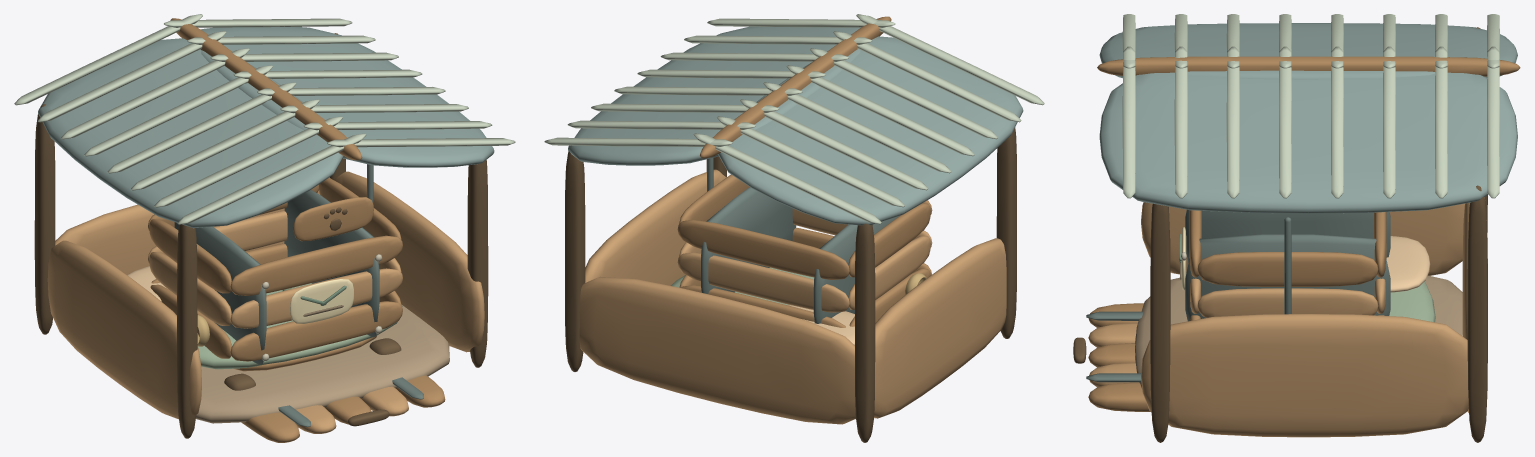
File: granja_envio.glb
3 views of the same model, side by side, from view 1: azimuth 30°, elevation 25°; view 2: azimuth 150°, elevation 25°; view 3: azimuth 270°, elevation 25° (orthographic). The views are drawn at different scales.
Visible parts, largest first — view 1: techo -1, pared -0.7, techo 1, base, pared 0.7, tabla z 20.355, tabla z 00.355, pared fondo, poste -0.720.49, poste -0.72-0.73, poste 0.720.49, cumbrera (+34 smaller); view 2: pared fondo, techo -1, pared -0.7, techo 1, pared 0.7, tabla z 2-0.355, tabla z 1-0.355, poste -0.72-0.73, poste 0.72-0.73, zuncho 0.28, poste -0.720.49, cumbrera (+25 smaller); view 3: techo 1, pared 0.7, techo -1, tabla x 20.42, cumbrera, pared -0.7, poste 0.72-0.73, poste 0.720.49, zuncho 0.28, zuncho -0.28, tabla x 10.42, base (+29 smaller).
Part boxes in pixels (bbox=[...]): techo -1: bbox=[38, 38, 343, 228]; pared -0.7: bbox=[47, 240, 201, 419]; techo 1: bbox=[201, 27, 494, 167]; base: bbox=[195, 305, 449, 423]; pared 0.7: bbox=[334, 171, 484, 352]; tabla z 20.355: bbox=[230, 235, 402, 295]; tabla z 00.355: bbox=[230, 301, 402, 361]; pared fondo: bbox=[55, 177, 330, 275]; poste -0.720.49: bbox=[177, 224, 197, 438]; poste -0.72-0.73: bbox=[34, 104, 55, 334]; poste 0.720.49: bbox=[467, 160, 488, 367]; cumbrera: bbox=[170, 18, 362, 160]; pared fondo: bbox=[579, 276, 855, 424]; techo -1: bbox=[718, 36, 1023, 225]; pared -0.7: bbox=[874, 238, 1006, 418]; techo 1: bbox=[568, 26, 860, 165]; pared 0.7: bbox=[585, 169, 726, 285]; tabla z 2-0.355: bbox=[677, 220, 849, 279]; tabla z 1-0.355: bbox=[677, 252, 849, 312]; poste -0.72-0.73: bbox=[855, 223, 875, 442]; poste 0.72-0.73: bbox=[565, 145, 585, 371]; zuncho 0.28: bbox=[701, 187, 796, 293]; poste -0.720.49: bbox=[996, 127, 1016, 338]; cumbrera: bbox=[700, 16, 891, 158]; techo 1: bbox=[1099, 72, 1517, 213]; pared 0.7: bbox=[1141, 314, 1468, 437]; techo -1: bbox=[1099, 23, 1517, 79]; tabla x 20.42: bbox=[1197, 252, 1378, 286]; cumbrera: bbox=[1097, 56, 1520, 76]; pared -0.7: bbox=[1141, 202, 1464, 275]; poste 0.72-0.73: bbox=[1467, 185, 1487, 442]; poste 0.720.49: bbox=[1150, 203, 1170, 442]; zuncho 0.28: bbox=[1185, 234, 1390, 321]; zuncho -0.28: bbox=[1185, 209, 1390, 262]; tabla x 10.42: bbox=[1197, 288, 1378, 317]; base: bbox=[1135, 275, 1462, 387].
Bounding box in the file's own units: 1.67 × 1.36 × 1.72.
